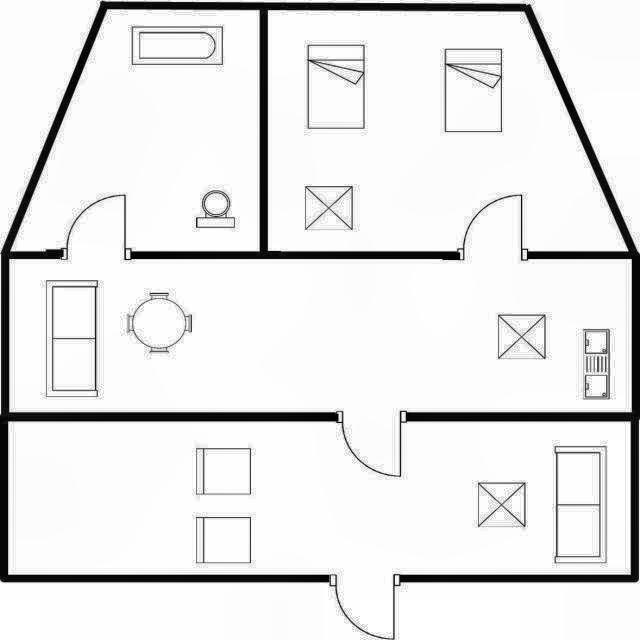room: (10, 258, 630, 413), (8, 422, 630, 574), (267, 9, 628, 252), (9, 10, 260, 251)
